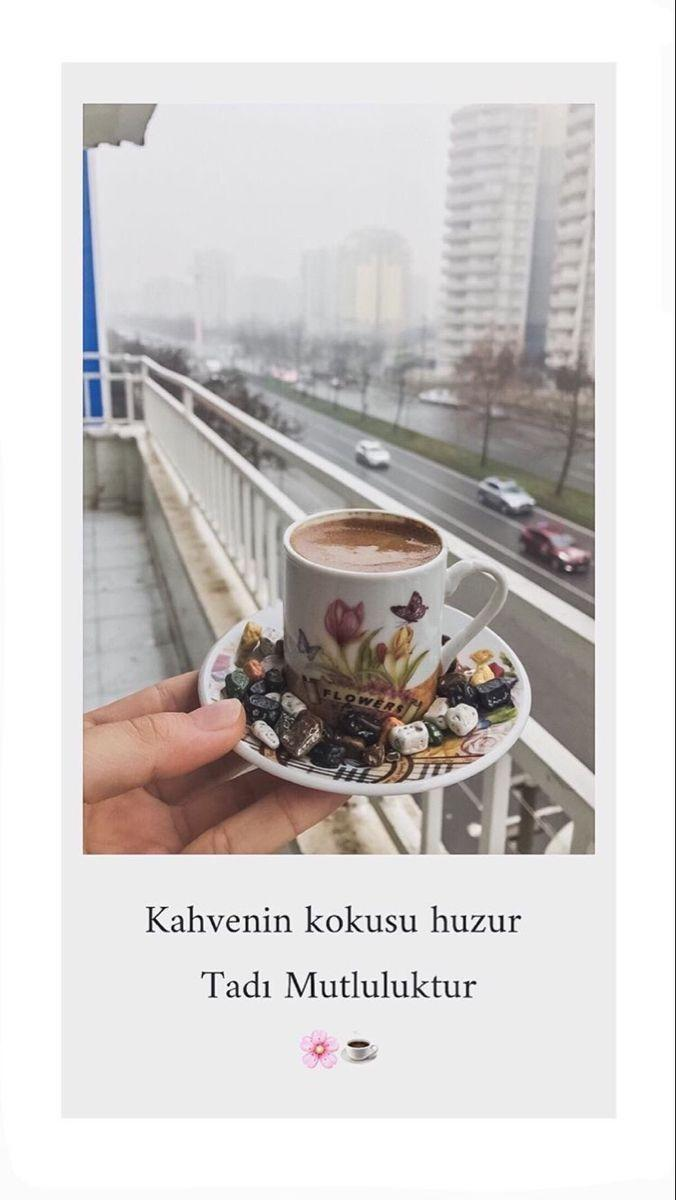cup-handle: (279, 507, 508, 749)
